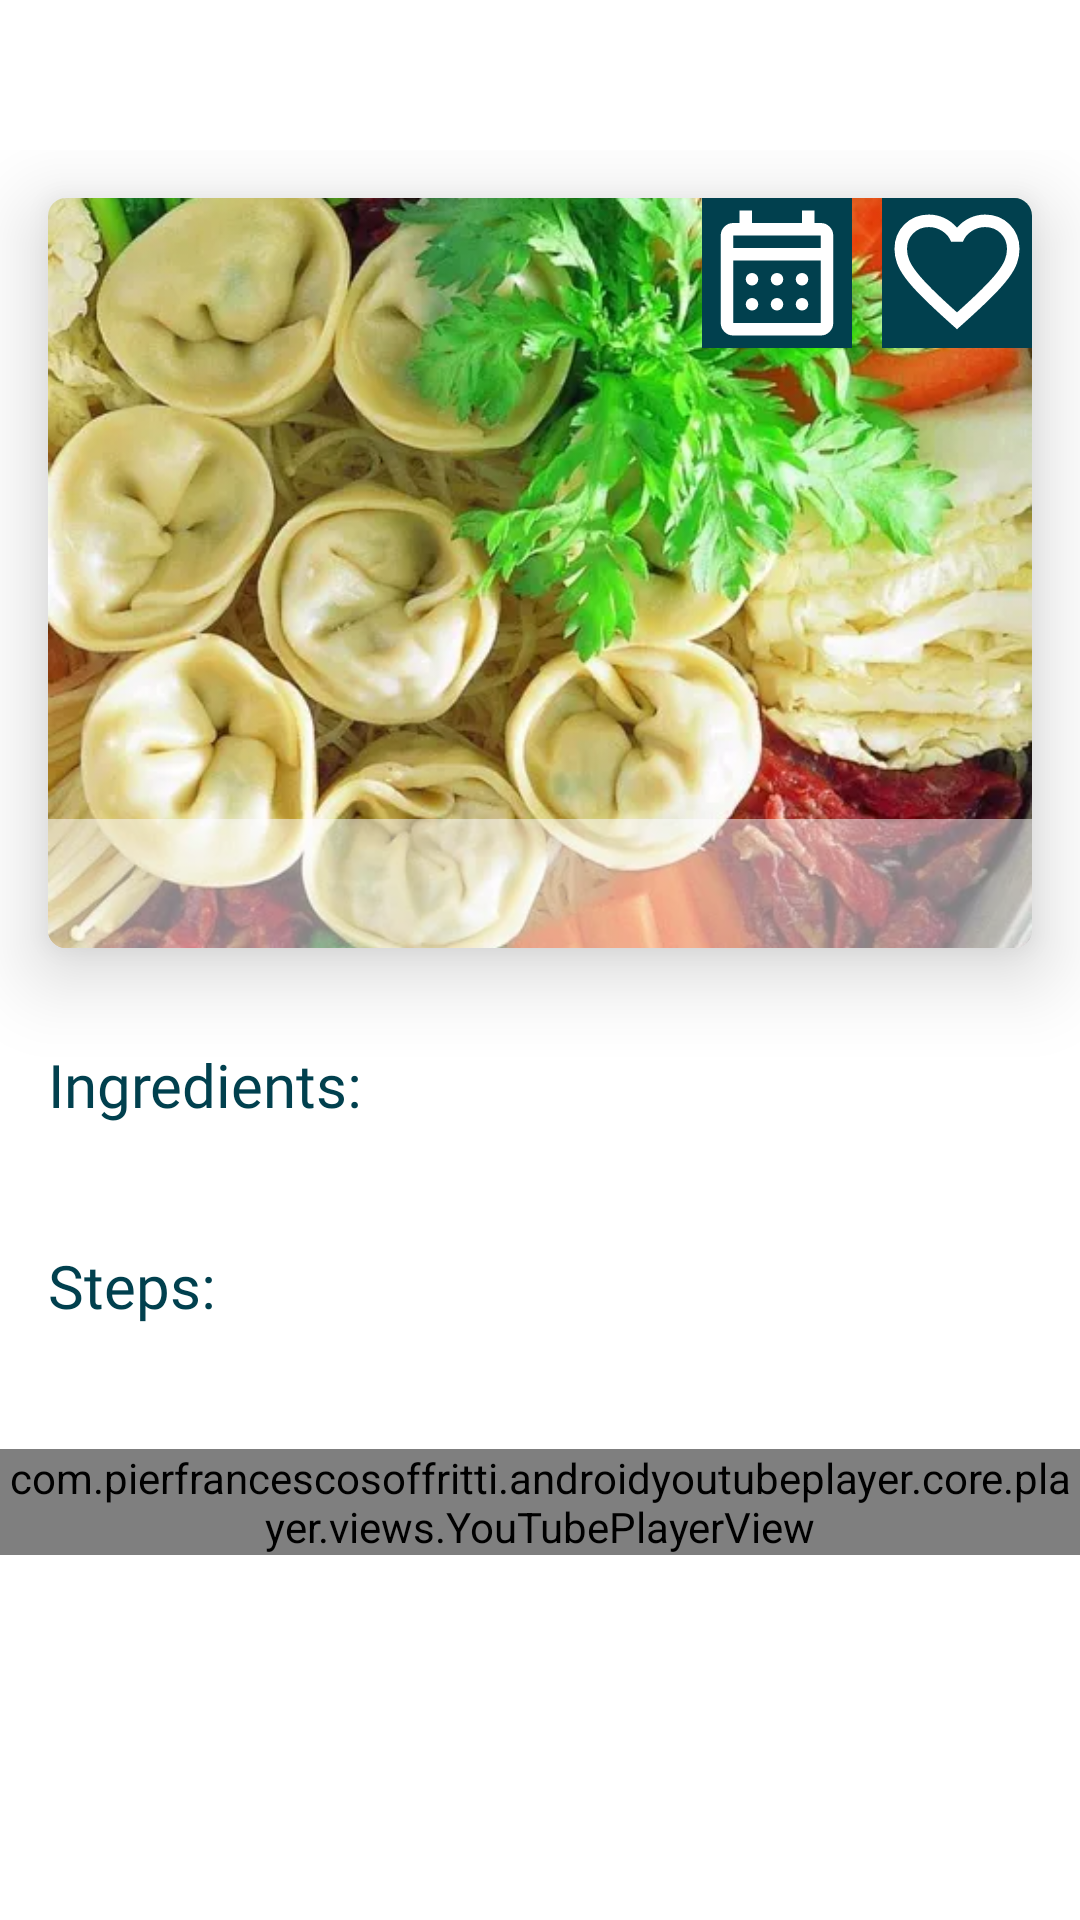

Screen size 1080x1920. Icon name, then its center in pixels as point (x, y):
calender: point (777, 273)
favorite: point (957, 273)
